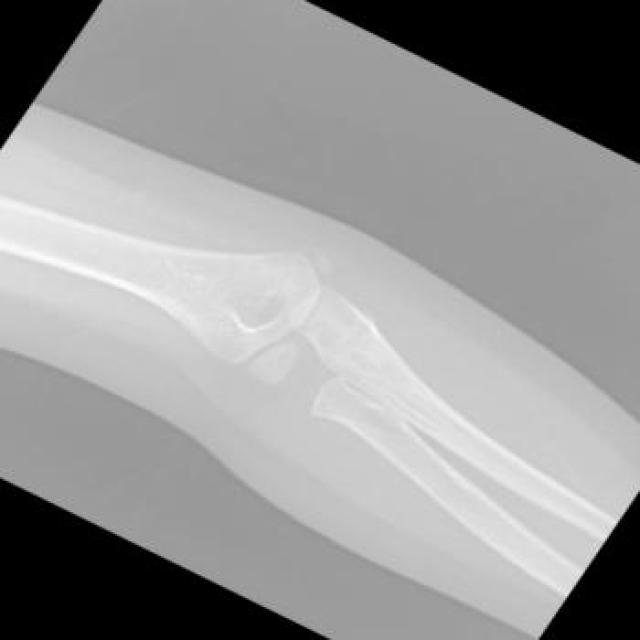Fracture: (240, 344, 336, 411)
